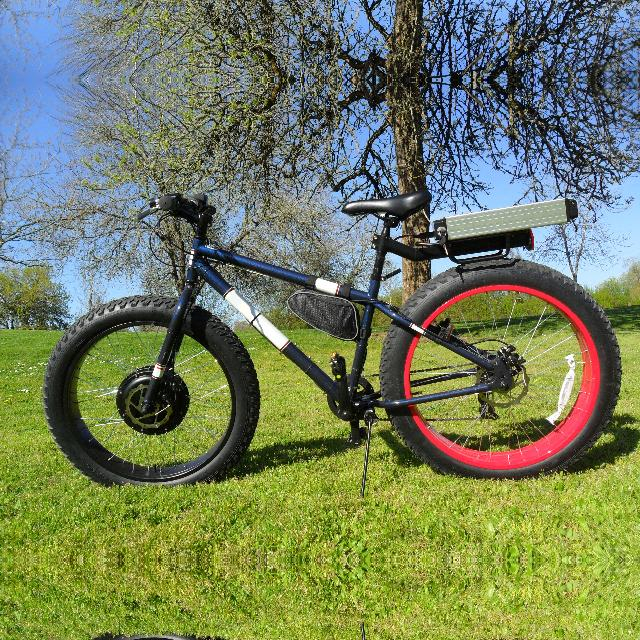obstacle: (38, 167, 620, 499), (38, 621, 619, 640)
